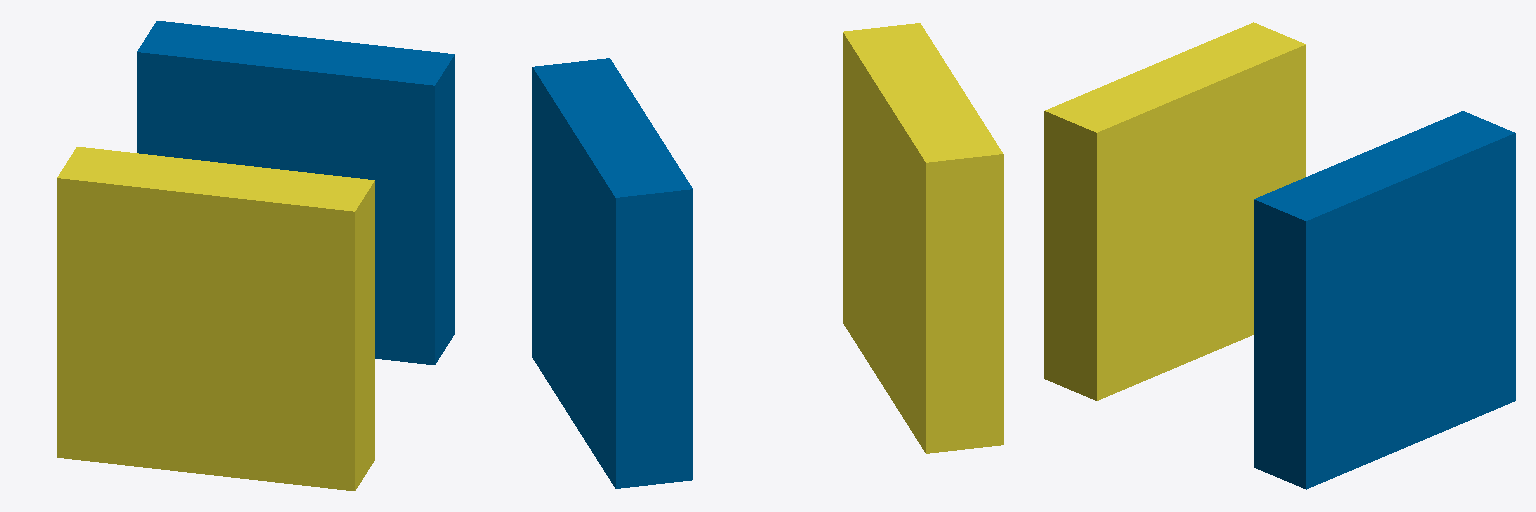
The robot description file, URDF, robot "panda":
<?xml version="1.0" ?>
<!-- =================================================================================== -->
<!-- |    This document was autogenerated by xacro from manipulator.urdf.xacro         | -->
<!-- |    EDITING THIS FILE BY HAND IS NOT RECOMMENDED                                 | -->
<!-- =================================================================================== -->
<robot name="panda">
  <!-- Empty link to referr everything to -->
  <link name="world"/>
  <!-- Wrong masses to test adaptability of the algorithms, on purpose off by 20% -->
  <!--xacro:property
  name="mass_link0" value="3.66357" />
  <xacro:property name="mass_link1" value="2.04471" />
  <xacro:property name="mass_link2" value="2.56414" />
  <xacro:property name="mass_link3" value="2.48050" />
  <xacro:property name="mass_link4" value="2.02754" />
  <xacro:property name="mass_link5" value="3.09611" />
  <xacro:property name="mass_link6" value="1.66736" />
  <xacro:property name="mass_link7" value="0.75606" />
  <xacro:property name="mass_link8" value="0.1" /-->
  <joint name="robot_to_world" type="fixed">
    <parent link="world"/>
    <child link="panda_link0"/>
    <origin rpy="0.0 0.0 0.0" xyz="0.0 0.0 0.0"/>
    <dynamics damping="1.0"/>
  </joint>
  <link name="panda_link0">
    <visual>
      <geometry>
        <mesh filename="package://arm_description/meshes/visual/link0.dae"/>
      </geometry>
    </visual>
    <collision>
      <geometry>
        <mesh filename="package://arm_description/meshes/collision/link0.stl"/>
      </geometry>
    </collision>
    <inertial>
      <origin rpy="0 0 0" xyz="-0.029190 -0.000879 0.056603"/>
      <mass value="3.06357"/>
      <inertia ixx="0.009" ixy="0.0" ixz="-0.00010" iyy="0.0122" iyz="0.0" izz="0.0122"/>
    </inertial>
  </link>
  <link name="panda_link1">
    <visual>
      <geometry>
        <mesh filename="package://arm_description/meshes/visual/link1.dae"/>
      </geometry>
    </visual>
    <collision>
      <geometry>
        <mesh filename="package://arm_description/meshes/collision/link1.stl"/>
      </geometry>
    </collision>
    <inertial>
      <origin rpy="0 0 0" xyz="0.000011 -0.031266 -0.069373"/>
      <mass value="2.34471"/>
      <inertia ixx="0.01418" ixy="0.0" ixz="0.0" iyy="0.01181" iyz="0.00236" izz="0.005515"/>
    </inertial>
  </link>
  <joint name="panda_joint1" type="revolute">
    <safety_controller k_position="100.0" k_velocity="40.0" soft_lower_limit="-2.8973" soft_upper_limit="2.8973"/>
    <origin rpy="0 0 0" xyz="0 0 0.333"/>
    <parent link="panda_link0"/>
    <child link="panda_link1"/>
    <axis xyz="0 0 1"/>
    <limit effort="87" lower="-3.141592653589793" upper="3.141592653589793" velocity="2.1750"/>
    <!-- <limit effort="87" lower="-2.8973" upper="2.8973" velocity="2.1750" /> -->
    <dynamics damping="1.0"/>
  </joint>
  <link name="panda_link2">
    <visual>
      <geometry>
        <mesh filename="package://arm_description/meshes/visual/link2.dae"/>
      </geometry>
    </visual>
    <collision>
      <geometry>
        <mesh filename="package://arm_description/meshes/collision/link2.stl"/>
      </geometry>
    </collision>
    <inertial>
      <origin rpy="0 0 0" xyz="-0.000013 -0.070322 0.031178"/>
      <mass value="2.36414"/>
      <inertia ixx="0.014" ixy="0.0" ixz="0.0" iyy="0.0055" iyz="-0.0023" izz="0.01259"/>
    </inertial>
  </link>
  <joint name="panda_joint2" type="revolute">
    <safety_controller k_position="100.0" k_velocity="40.0" soft_lower_limit="-1.7628" soft_upper_limit="1.7628"/>
    <origin rpy="-1.5707963267948966 0 0" xyz="0 0 0"/>
    <parent link="panda_link1"/>
    <child link="panda_link2"/>
    <axis xyz="0 0 1"/>
    <limit effort="87" lower="-3.141592653589793" upper="3.141592653589793" velocity="2.1750"/>
    <!-- <limit effort="87" lower="-1.7628" upper="1.7628" velocity="2.1750" /> -->
    <dynamics damping="1.0"/>
  </joint>
  <link name="panda_link3">
    <visual>
      <geometry>
        <mesh filename="package://arm_description/meshes/visual/link3.dae"/>
      </geometry>
    </visual>
    <collision>
      <geometry>
        <mesh filename="package://arm_description/meshes/collision/link3.stl"/>
      </geometry>
    </collision>
    <inertial>
      <origin rpy="0 0 0" xyz="0.044348 0.024928 -0.038130"/>
      <mass value="2.3805"/>
      <inertia ixx="0.00716" ixy="-0.00102" ixz="-0.02040" iyy="0.00920" iyz="-0.00102" izz="0.007159"/>
    </inertial>
  </link>
  <joint name="panda_joint3" type="revolute">
    <safety_controller k_position="100.0" k_velocity="40.0" soft_lower_limit="-2.8973" soft_upper_limit="2.8973"/>
    <origin rpy="1.5707963267948966 0 0" xyz="0 -0.316 0"/>
    <parent link="panda_link2"/>
    <child link="panda_link3"/>
    <axis xyz="0 0 1"/>
    <limit effort="87" lower="-3.141592653589793" upper="3.141592653589793" velocity="2.1750"/>
    <!-- <limit effort="87" lower="-2.8973" upper="2.8973" velocity="2.1750" /> -->
    <dynamics damping="1.0"/>
  </joint>
  <link name="panda_link4">
    <visual>
      <geometry>
        <mesh filename="package://arm_description/meshes/visual/link4.dae"/>
      </geometry>
    </visual>
    <collision>
      <geometry>
        <mesh filename="package://arm_description/meshes/collision/link4.stl"/>
      </geometry>
    </collision>
    <inertial>
      <origin rpy="0 0 0" xyz="-0.038550 0.039526 0.024716"/>
      <mass value="2.42754"/>
      <inertia ixx="0.008164" ixy="0.003061" ixz="0.00102" iyy="0.008165" iyz="0.00102" izz="0.009185"/>
    </inertial>
  </link>
  <joint name="panda_joint4" type="revolute">
    <safety_controller k_position="100.0" k_velocity="40.0" soft_lower_limit="-3.0718" soft_upper_limit="-0.0698"/>
    <origin rpy="1.5707963267948966 0 0" xyz="0.0825 0 0"/>
    <parent link="panda_link3"/>
    <child link="panda_link4"/>
    <axis xyz="0 0 1"/>
    <!-- <limit effort="87" lower="-3.0718" upper="-0.0698" velocity="2.1750" /> -->
    <limit effort="87" lower="-3.141592653589793" upper="3.141592653589793" velocity="2.1750"/>
    <dynamics damping="1.0"/>
  </joint>
  <link name="panda_link5">
    <visual>
      <geometry>
        <mesh filename="package://arm_description/meshes/visual/link5.dae"/>
      </geometry>
    </visual>
    <collision>
      <geometry>
        <mesh filename="package://arm_description/meshes/collision/link5.stl"/>
      </geometry>
    </collision>
    <inertial>
      <origin rpy="0 0 0" xyz="-0.000064 0.038412 -0.109970"/>
      <mass value="3.49611"/>
      <inertia ixx="0.0307" ixy="0.0" ixz="0.0" iyy="0.02761" iyz="-0.0613" izz="0.00818"/>
    </inertial>
  </link>
  <joint name="panda_joint5" type="revolute">
    <safety_controller k_position="100.0" k_velocity="40.0" soft_lower_limit="-2.8973" soft_upper_limit="2.8973"/>
    <origin rpy="-1.5707963267948966 0 0" xyz="-0.0825 0.384 0"/>
    <parent link="panda_link4"/>
    <child link="panda_link5"/>
    <axis xyz="0 0 1"/>
    <!-- <limit effort="12" lower="-2.8973" upper="2.8973" velocity="2.6100" /> -->
    <limit effort="87" lower="-3.141592653589793" upper="3.141592653589793" velocity="2.1750"/>
    <dynamics damping="1.0"/>
  </joint>
  <link name="panda_link6">
    <visual>
      <geometry>
        <mesh filename="package://arm_description/meshes/visual/link6.dae"/>
      </geometry>
    </visual>
    <collision>
      <geometry>
        <mesh filename="package://arm_description/meshes/collision/link6.stl"/>
      </geometry>
    </collision>
    <inertial>
      <origin rpy="0 0 0" xyz="0.051002 0.006933 0.006169"/>
      <mass value="1.46736"/>
      <inertia ixx="0.00205" ixy="0.0" ixz="0.0" iyy="0.004089" iyz="0" izz="0.00490"/>
    </inertial>
  </link>
  <joint name="panda_joint6" type="revolute">
    <safety_controller k_position="100.0" k_velocity="40.0" soft_lower_limit="-0.0175" soft_upper_limit="3.7525"/>
    <origin rpy="1.5707963267948966 0 0" xyz="0 0 0"/>
    <parent link="panda_link5"/>
    <child link="panda_link6"/>
    <axis xyz="0 0 1"/>
    <!-- <limit effort="12" lower="-0.0175" upper="3.7525" velocity="2.6100" /> -->
    <limit effort="87" lower="-3.141592653589793" upper="3.141592653589793" velocity="2.1750"/>
    <dynamics damping="1.0"/>
  </joint>
  <link name="panda_link7">
    <visual>
      <geometry>
        <mesh filename="package://arm_description/meshes/visual/link7.dae"/>
      </geometry>
    </visual>
    <collision>
      <geometry>
        <mesh filename="package://arm_description/meshes/collision/link7.stl"/>
      </geometry>
    </collision>
    <inertial>
      <origin rpy="0 0 0" xyz="0 0 0"/>
      <mass value="0.45606"/>
      <inertia ixx="0.3" ixy="0.0" ixz="0.0" iyy="0.3" iyz="0.0" izz="0.3"/>
    </inertial>
  </link>
  <joint name="panda_joint7" type="revolute">
    <safety_controller k_position="100.0" k_velocity="40.0" soft_lower_limit="-2.8973" soft_upper_limit="2.8973"/>
    <origin rpy="1.5707963267948966 0 0" xyz="0.088 0 0"/>
    <parent link="panda_link6"/>
    <child link="panda_link7"/>
    <axis xyz="0 0 1"/>
    <limit effort="12" lower="-2.8973" upper="2.8973" velocity="2.6100"/>
    <dynamics damping="1.0"/>
  </joint>
  <link name="panda_link8">
    <inertial>
      <origin rpy="0 0 0" xyz="0 0 0"/>
      <mass value="0.001"/>
      <inertia ixx="0.3" ixy="0.0" ixz="0.0" iyy="0.3" iyz="0.0" izz="0.3"/>
    </inertial>
  </link>
  <joint name="panda_joint8" type="fixed">
    <origin rpy="0 0 0" xyz="0 0 0.107"/>
    <parent link="panda_link7"/>
    <child link="panda_link8"/>
    <!-- <axis xyz="0 0 1" />
      <limit effort="1" lower="0" upper="0.1" velocity="0.1" />
      <dynamics damping="100" /> -->
  </joint>
  <joint name="panda_hand_joint" type="fixed">
    <parent link="panda_link8"/>
    <child link="panda_hand"/>
    <origin rpy="0 0 -0.7853981633974483" xyz="0 0 0"/>
  </joint>
  <!-- Hand Link -->
  <link name="panda_hand">
    <visual>
      <geometry>
        <mesh filename="package://arm_description/meshes/visual/hand.dae"/>
      </geometry>
    </visual>
    <collision>
      <geometry>
        <mesh filename="package://arm_description/meshes/collision/hand.stl"/>
      </geometry>
    </collision>
    <inertial>
      <origin rpy="0 0 0" xyz="0 0 0"/>
      <mass value="0.68"/>
      <inertia ixx="0.1" ixy="0.0" ixz="0.0" iyy="0.1" iyz="0.0" izz="0.1"/>
    </inertial>
  </link>
  <!-- Left Finger Link -->
  <link name="panda_finger_left">
    <visual>
      <origin rpy="0 0 0" xyz="-0.02 0 0.02"/>
      <geometry>
        <box size="0.01 0.04 0.04"/>
      </geometry>
    </visual>
    <collision>
      <origin rpy="0 0 0" xyz="-0.02 0 0.02"/>
      <geometry>
        <box size="0.01 0.04 0.04"/>
      </geometry>
    </collision>
    <inertial>
      <origin rpy="0 0 0" xyz="0 0 0"/>
      <mass value="0.02"/>
      <inertia ixx="0.000001667" ixy="0.0" ixz="0.0" iyy="0.000001667" iyz="0.0" izz="0.000000667"/>
    </inertial>
  </link>
  <!-- Right Finger Link -->
  <link name="panda_finger_right">
    <visual>
      <origin rpy="0 0 0" xyz="0.02 0 0.02"/>
      <geometry>
        <box size="0.01 0.04 0.04"/>
      </geometry>
    </visual>
    <collision>
      <origin rpy="0 0 0" xyz="0.02 0 0.02"/>
      <geometry>
        <box size="0.01 0.04 0.04"/>
      </geometry>
    </collision>
    <inertial>
      <origin rpy="0 0 0" xyz="0 0 0"/>
      <mass value="0.02"/>
      <inertia ixx="0.000001667" ixy="0.0" ixz="0.0" iyy="0.000001667" iyz="0.0" izz="0.000000667"/>
    </inertial>
  </link>
  <!-- Left Finger Joint -->
  <joint name="panda_finger_left_joint" type="revolute">
    <parent link="panda_hand"/>
    <child link="panda_finger_left"/>
    <origin rpy="0 0 0" xyz="0 0 0.0584"/>
    <axis xyz="0 1 0"/>
    <limit effort="20" lower="-0.25" upper="0.3390" velocity="0.2"/>
    <dynamics damping="1.0"/>
  </joint>
  <!-- Right Finger Joint -->
  <joint name="panda_finger_right_joint" type="revolute">
    <parent link="panda_hand"/>
    <child link="panda_finger_right"/>
    <origin rpy="0 0 0" xyz="0 0 0.0584"/>
    <axis xyz="0 1 0"/>
    <limit effort="20" lower="-0.3390" upper="0.25" velocity="0.2"/>
    <dynamics damping="1.0"/>
    <mimic joint="panda_finger_left_joint" multiplier="-1"/>
  </joint>
</robot>

--- What the picture shows (computed from the rendered views, not written in the file) ---
Views: 3 orthographic renders of the robot side by side, from view 1: azimuth 30°, elevation 25°; view 2: azimuth 150°, elevation 25°; view 3: azimuth 270°, elevation 25°.
Model panda with 13 links and 12 joints (9 revolute, 3 fixed), rooted at world, posed all joints at 0.
Visible links, largest first — view 1: panda_finger_left, panda_finger_right; view 2: panda_finger_left, panda_finger_right; view 3: panda_finger_right, panda_finger_left.
Boxes of the visible links, x1,y1,x2,y2 form: panda_finger_left: (57,147,374,490); panda_finger_right: (137,21,454,364); panda_finger_left: (843,23,1003,453); panda_finger_right: (532,58,692,488); panda_finger_right: (1254,111,1515,489); panda_finger_left: (1044,22,1305,400).
Bounding box of the posed robot: 0.0636 × 0.0636 × 0.04 m (x, y, z).
Meshes: 9 distinct files referenced, 0 mesh visuals loaded (none loaded); not drawn: 9 (reference not matched to a file when rendering).